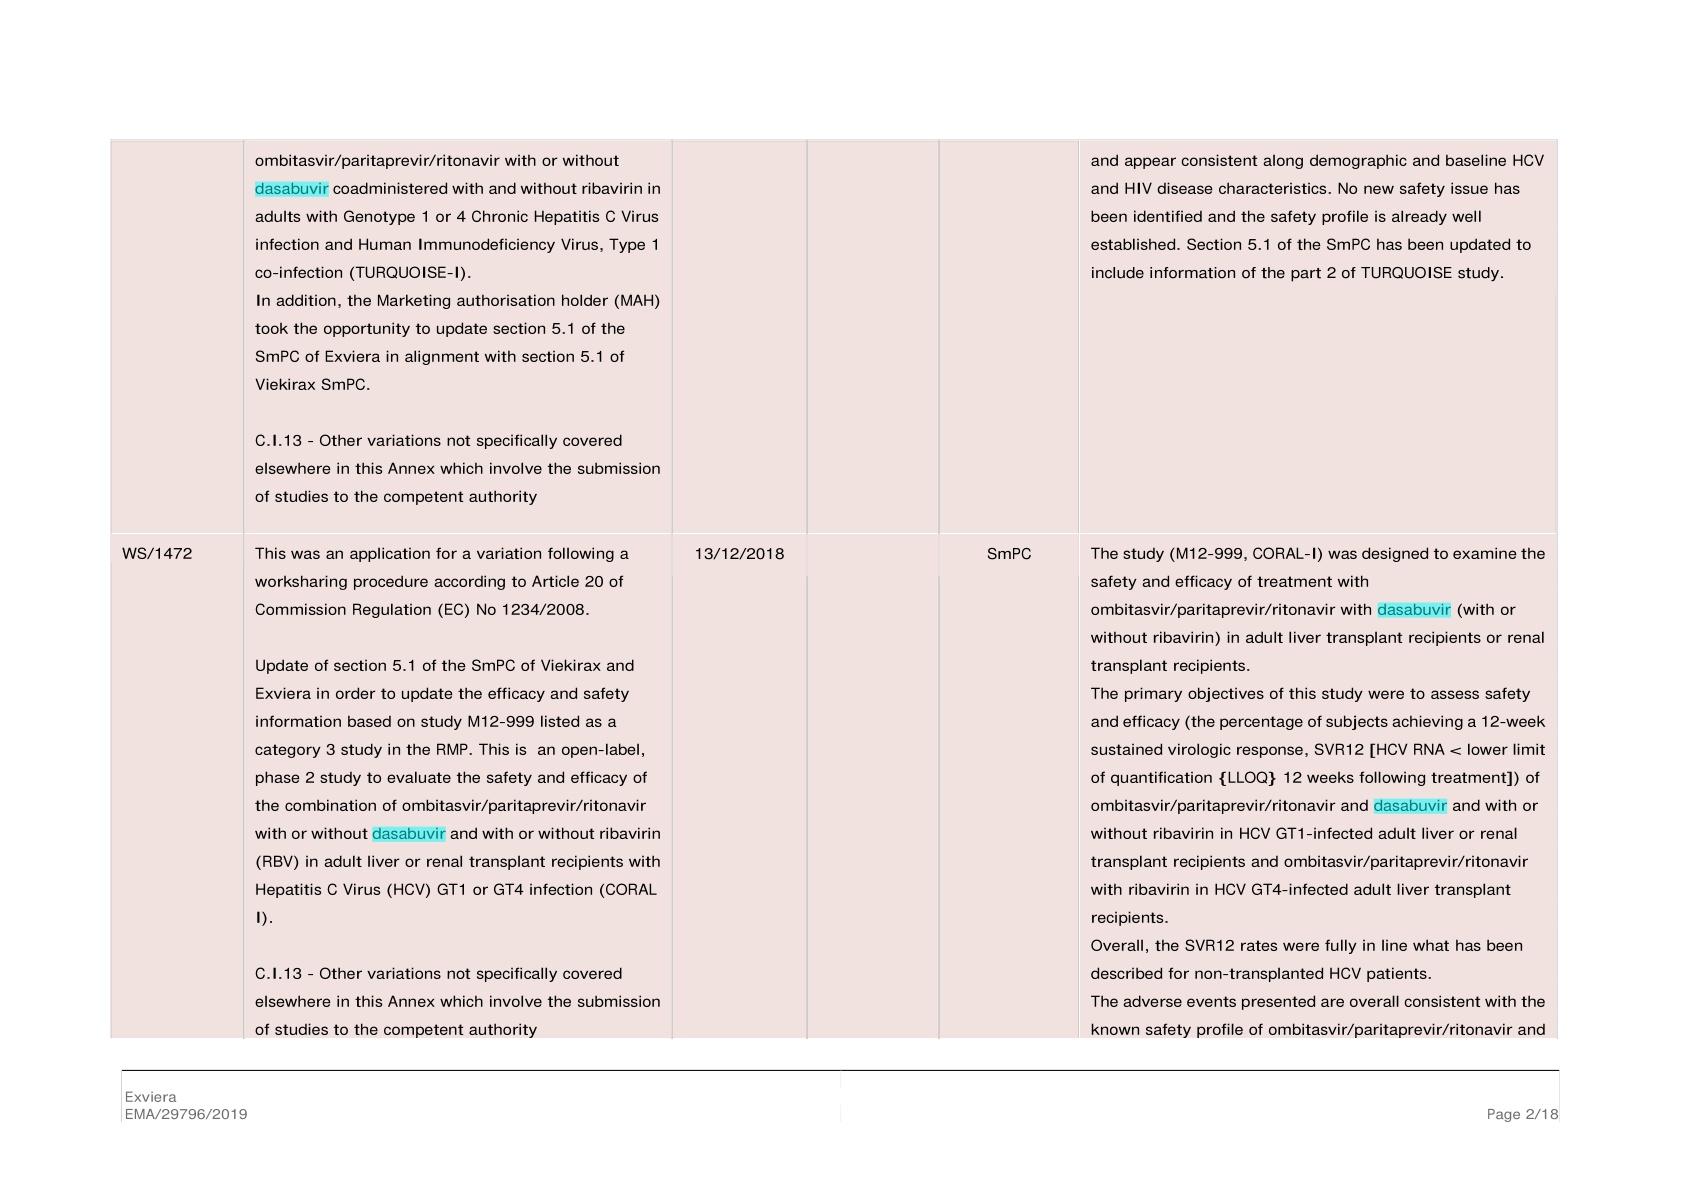full_lined: (109, 137, 1558, 1041)
